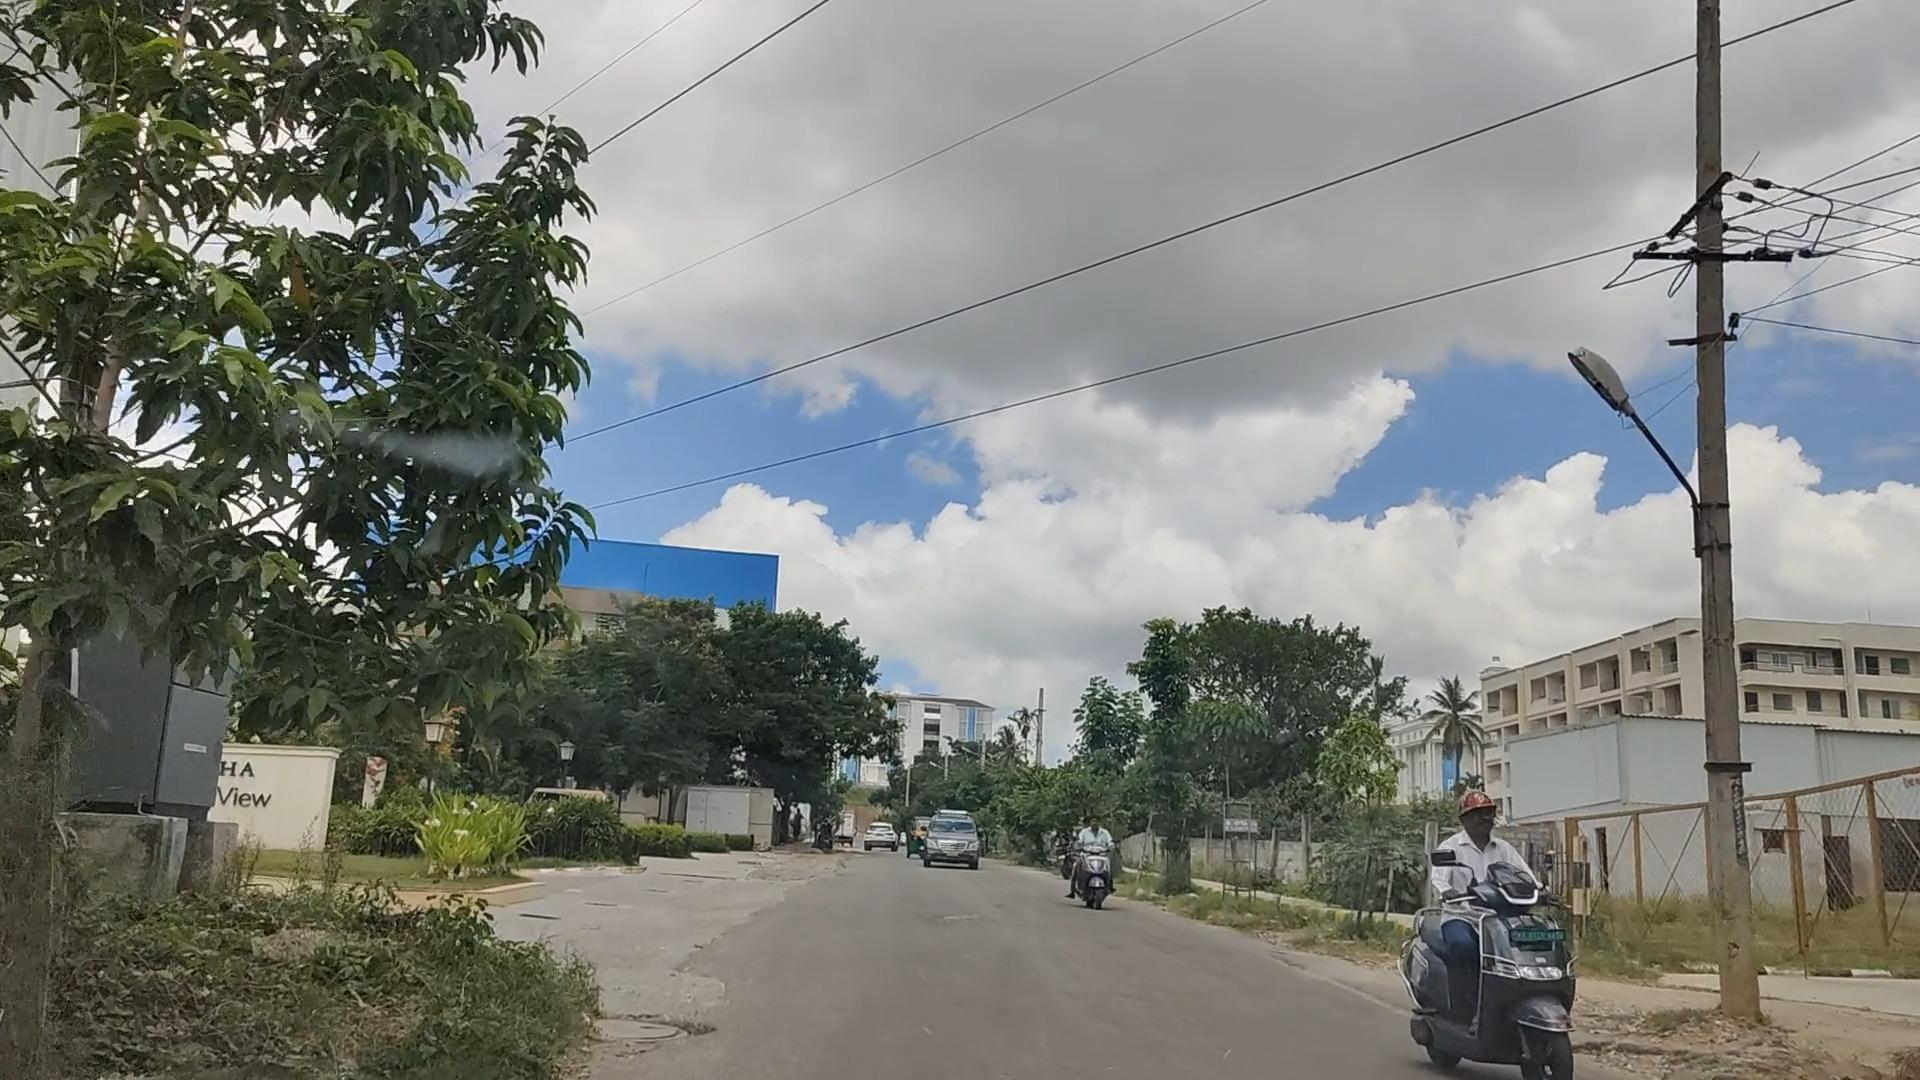RoadDamages: (591, 948, 806, 1080)
